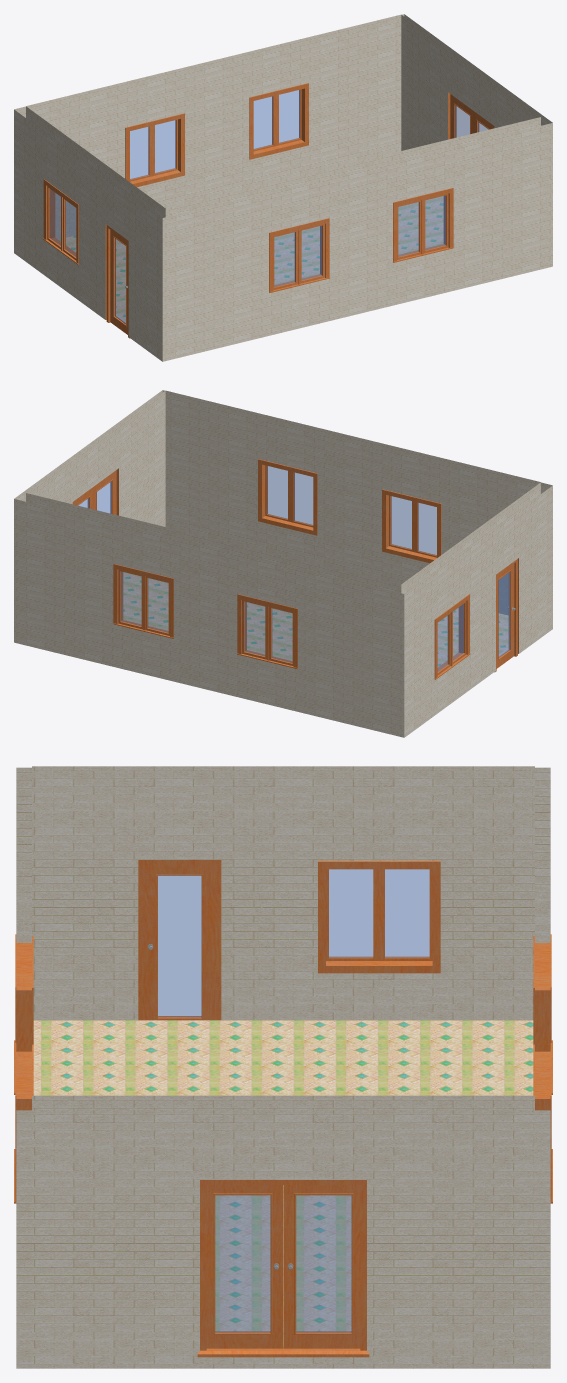
File: telhado33a.glb
3 renders of one model, top to bottom at view 1: azimuth 30°, elevation 25°; view 2: azimuth 150°, elevation 25°; view 3: azimuth 270°, elevation 25°, orthographic. The views are drawn at different scales.
Parts seen in each view (by area): view 1: object 3, object 2, object 4, root; view 2: object 3, object 2, object 4, root; view 3: object 3, root, object 2, object 4.
Boxes of the visible parts, x1,y1,x2,y2 form: object 3: (14, 14, 552, 361); object 2: (43, 83, 494, 338); object 4: (49, 90, 488, 324); root: (58, 196, 443, 322); object 3: (14, 390, 552, 737); object 2: (72, 459, 518, 679); object 4: (78, 466, 510, 671); root: (123, 572, 515, 666); object 3: (16, 766, 550, 1368); root: (33, 944, 533, 1346); object 2: (14, 860, 552, 1357); object 4: (158, 869, 429, 1332).
Size of the model in its own units: 8.86 by 3.23 by 5.85.
7 materials, 4 textured.
